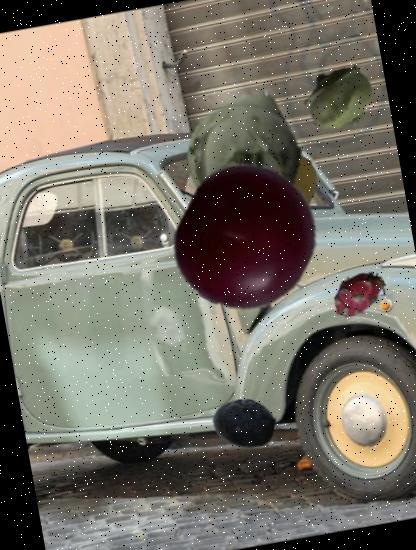Blueberry: (207, 386, 280, 459)
Cherry: (161, 153, 332, 323)
Chestnut: (198, 208, 292, 302)
Grape: (242, 143, 323, 224)
Kohlrabi: (168, 74, 320, 226), (296, 56, 382, 141)
Pitahaya: (324, 260, 391, 327)
